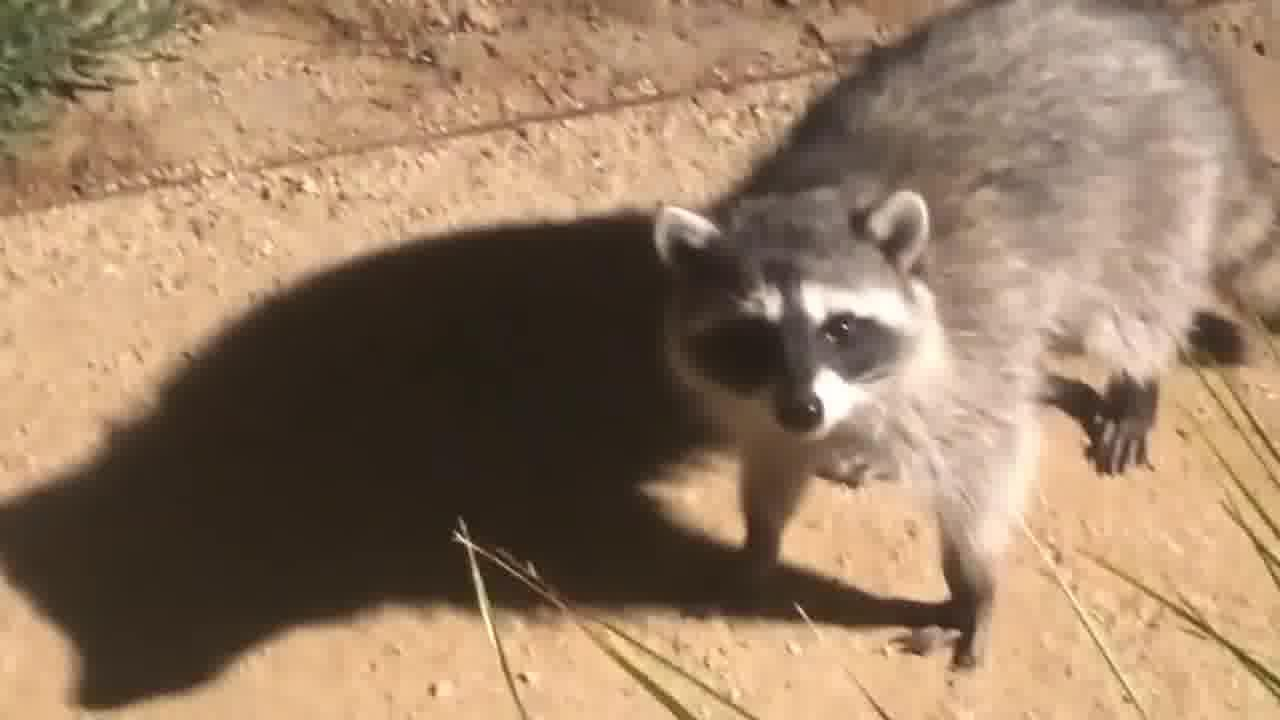raccoon: (643, 0, 1280, 720)
